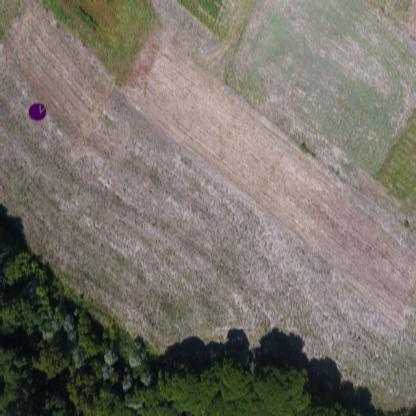V: (38, 105, 46, 115)
circle: (28, 101, 47, 122)
